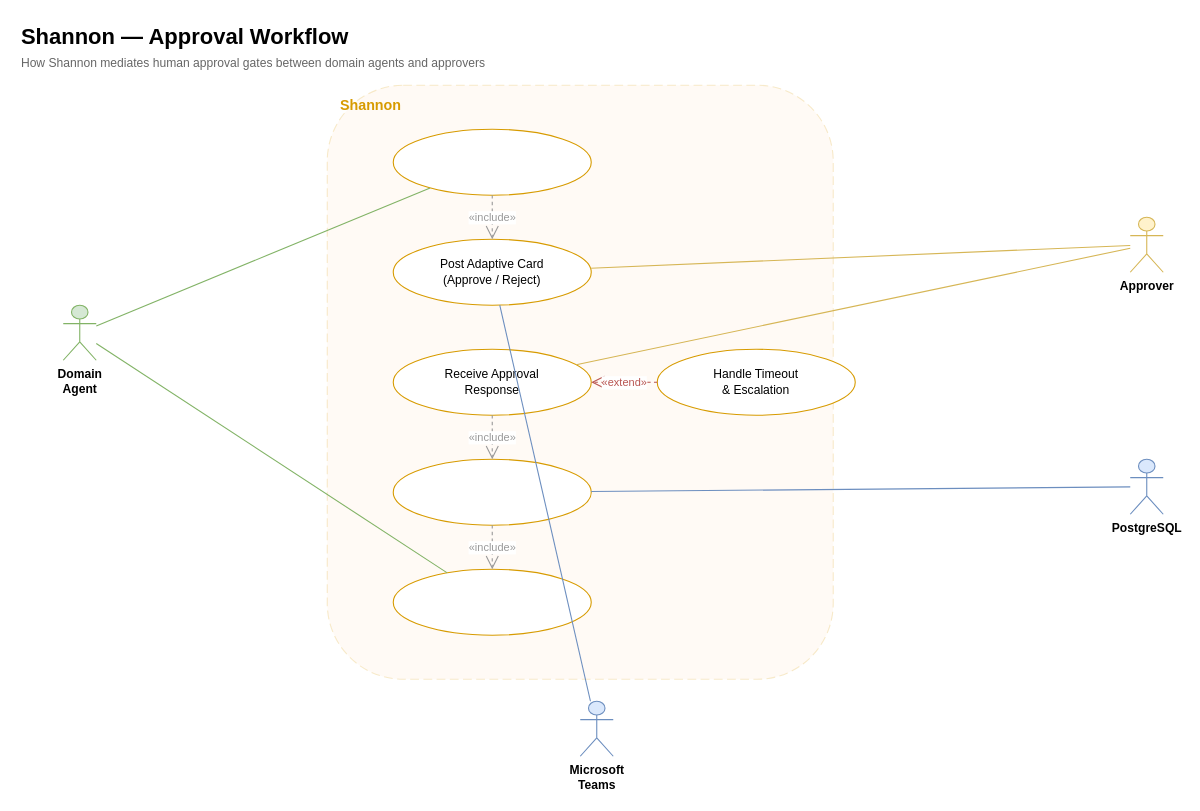
This 1200x811 diagram has some shape labels left out. The shapes that lost their labels are listed below. From the top down, each one's box as (x1, y1, x2, y2) in pixels, then its label:
(392, 128, 591, 195): Receive Approval Request from Agent
(392, 458, 591, 525): Record Approval in Database
(392, 568, 591, 635): Forward Response to Agent
